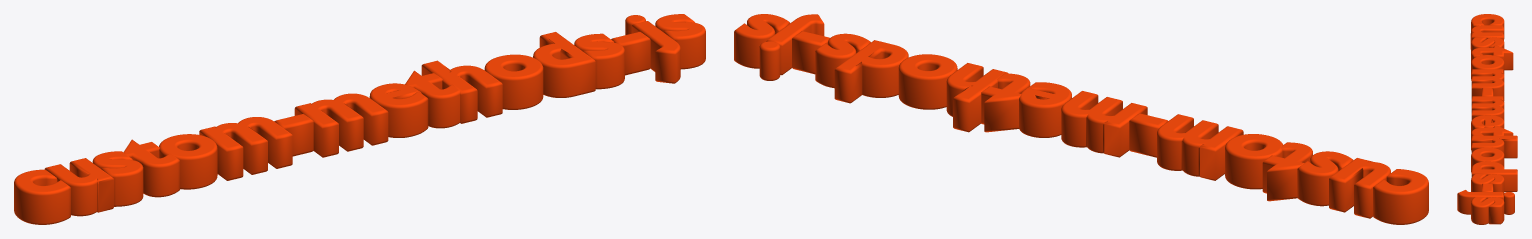
File: cam.gltf
The picture shows the model from 3 angles, left to right: view 1: azimuth 30°, elevation 25°; view 2: azimuth 150°, elevation 25°; view 3: azimuth 270°, elevation 25°; orthographic projection. The views are drawn at different scales.
Parts seen in each view (by area): view 1: Text; view 2: Text; view 3: Text.
Part boxes in pixels (bbox=[...]): Text: bbox=[14, 14, 705, 224]; Text: bbox=[734, 14, 1428, 224]; Text: bbox=[1457, 14, 1517, 224].
Size of the model in its own units: 7.78 by 0.36 by 1.02.
